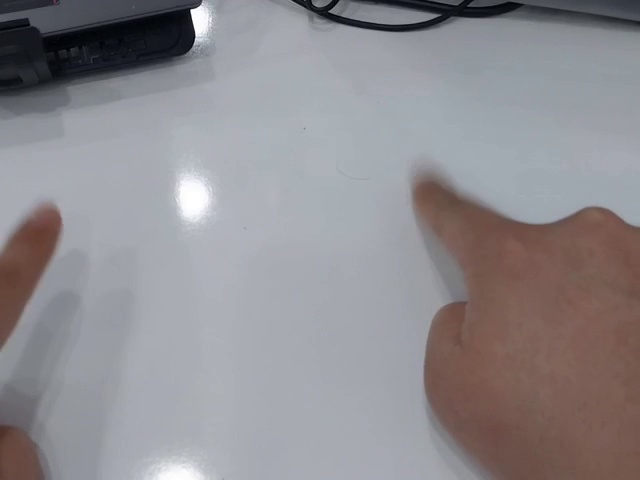fingers: (11, 203, 63, 263), (409, 172, 459, 219)
